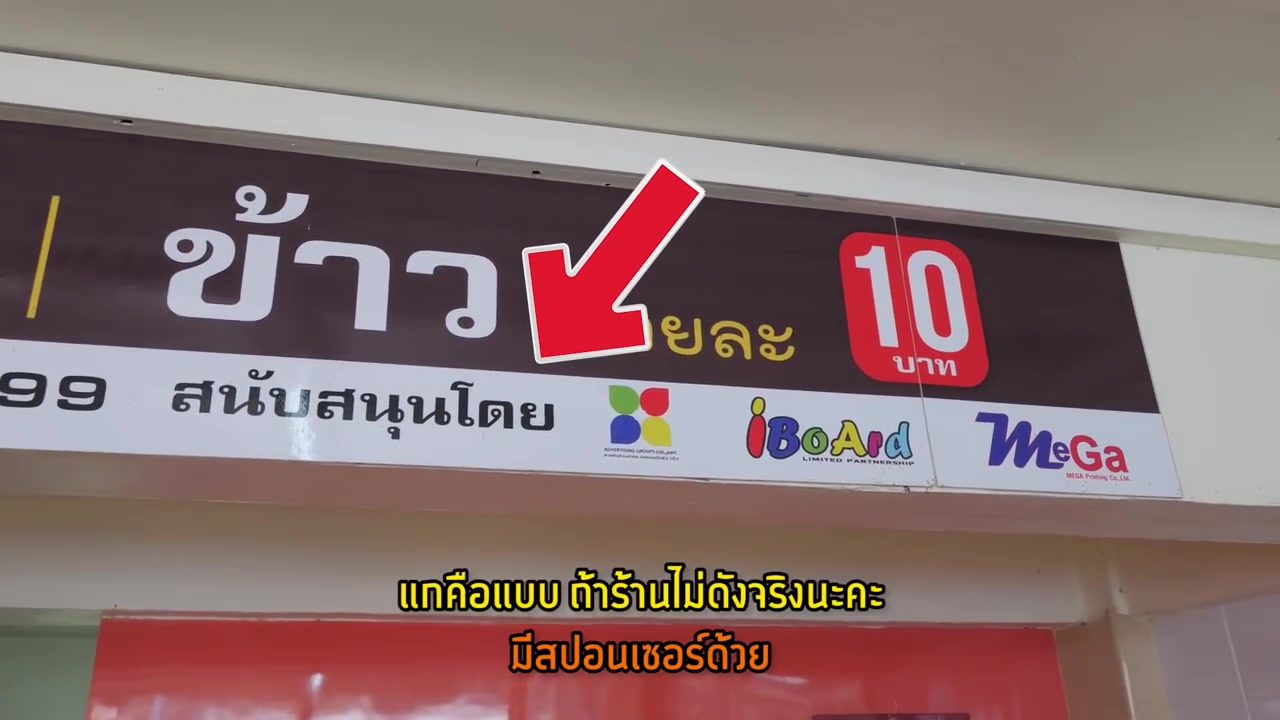text-label: (393, 561, 886, 613), (502, 621, 773, 673)
